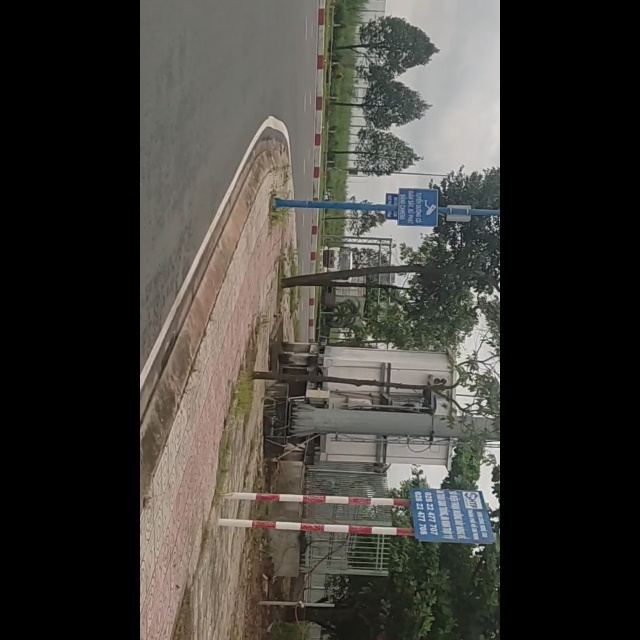bien_cam: (453, 183, 537, 229)
